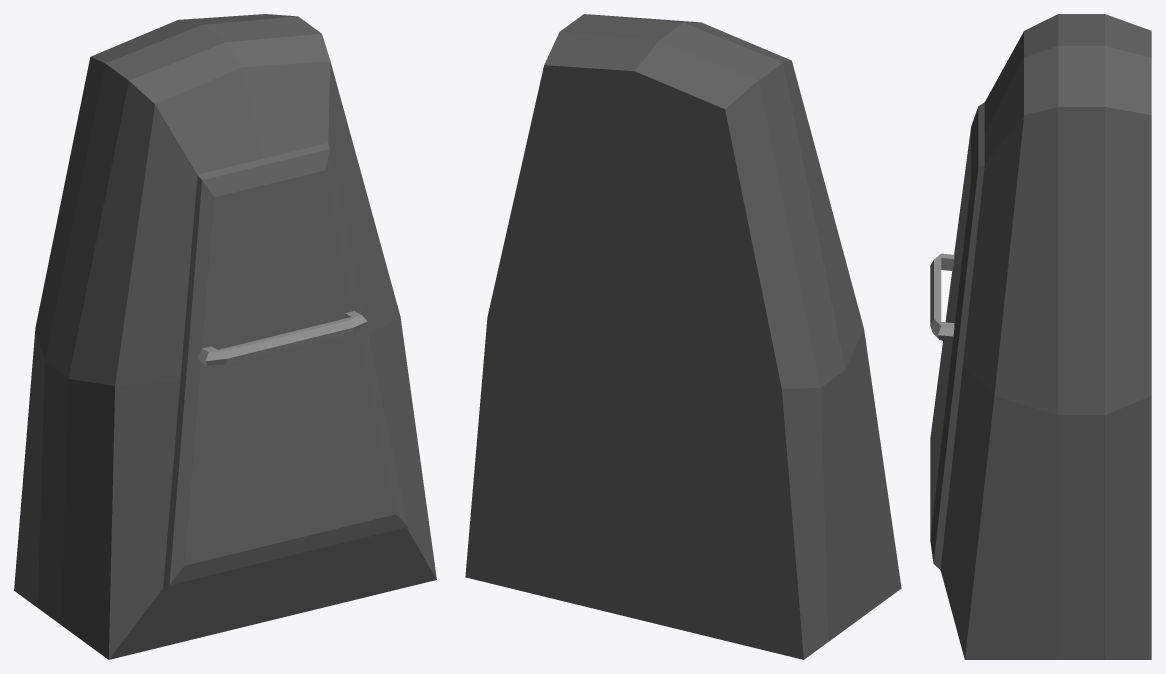
File: Bedroom_Prop_Locker.fbx
The picture shows the model from 3 angles, left to right: view 1: azimuth 30°, elevation 25°; view 2: azimuth 150°, elevation 25°; view 3: azimuth 270°, elevation 25°; orthographic projection. The views are drawn at different scales.
Parts seen in each view (by area): view 1: Cube.011; view 2: Cube.011; view 3: Cube.011.
Boxes of the visible parts, <box> form: Cube.011: <box>14,14,436,659</box>; Cube.011: <box>465,14,901,659</box>; Cube.011: <box>930,14,1151,659</box>.
Size of the model in its own units: 400 by 632 by 237.
